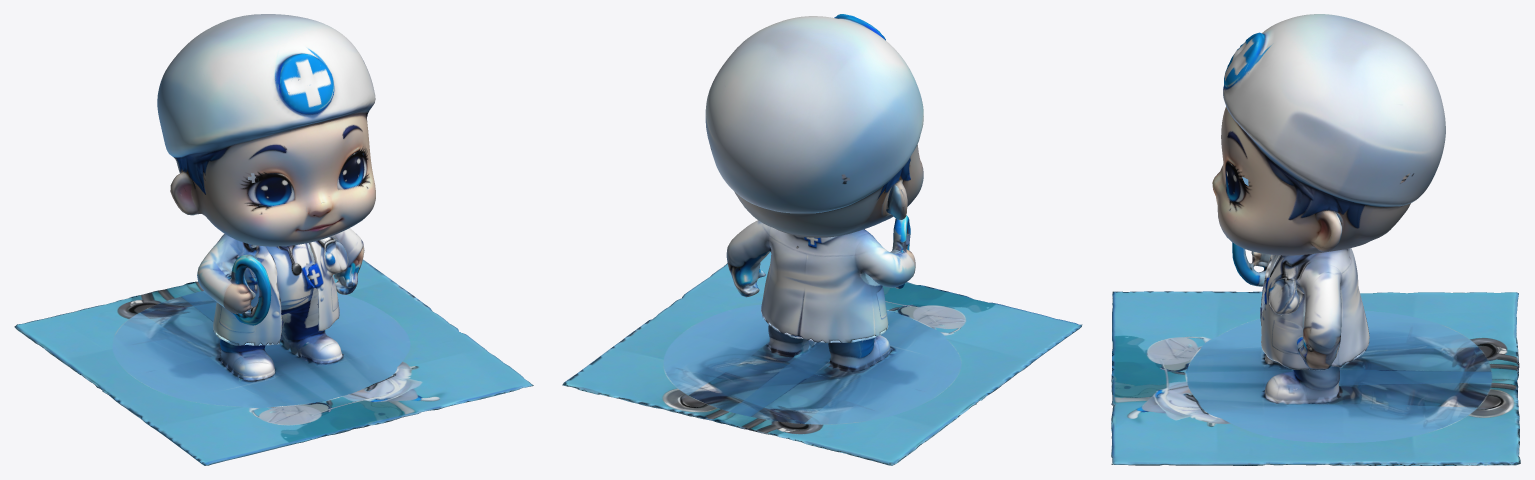
File: medical_agent.glb
The picture shows the model from 3 angles, left to right: view 1: azimuth 30°, elevation 25°; view 2: azimuth 150°, elevation 25°; view 3: azimuth 270°, elevation 25°; orthographic projection. The views are drawn at different scales.
Size of the model in its own units: 2.01 by 1.92 by 2.02.
Materials: 1 (1 with a texture image).
